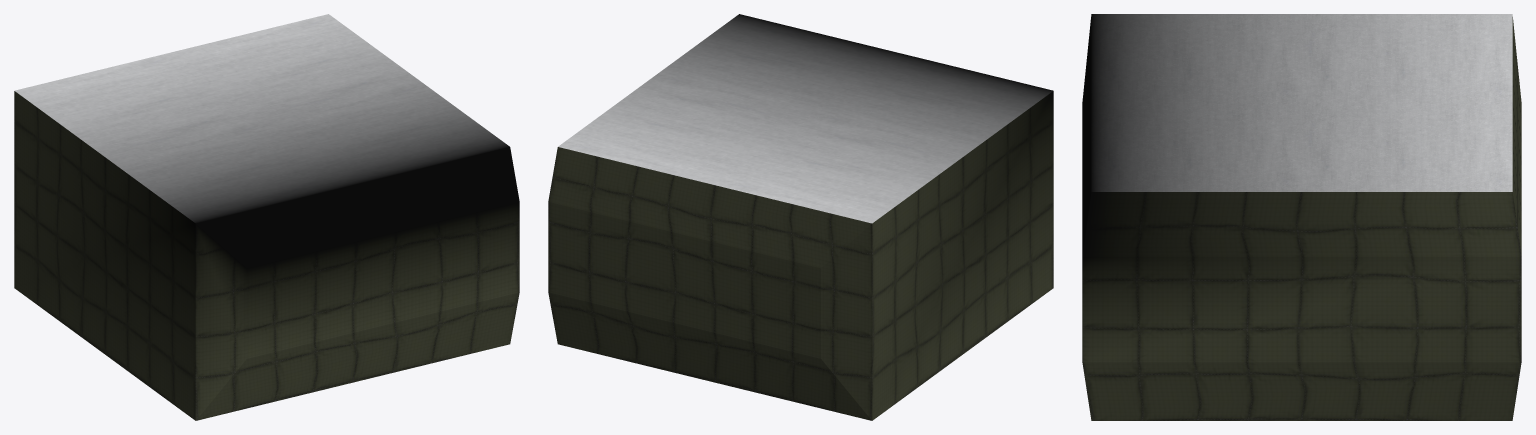
Rendered from ward_room.glb.
3 renders of one model, left to right at view 1: azimuth 30°, elevation 25°; view 2: azimuth 150°, elevation 25°; view 3: azimuth 270°, elevation 25°, orthographic. The views are drawn at different scales.
Visible parts, largest first — view 1: Plane; view 2: Plane; view 3: Plane.
Boxes of the visible parts, box(x1,y1,x2,y2) form: Plane: box(14, 14, 519, 420); Plane: box(548, 14, 1053, 420); Plane: box(1082, 14, 1521, 420).
Bounding box in the file's own units: 5.09 × 3 × 5.21.
Materials: 3 (3 with a texture image).
